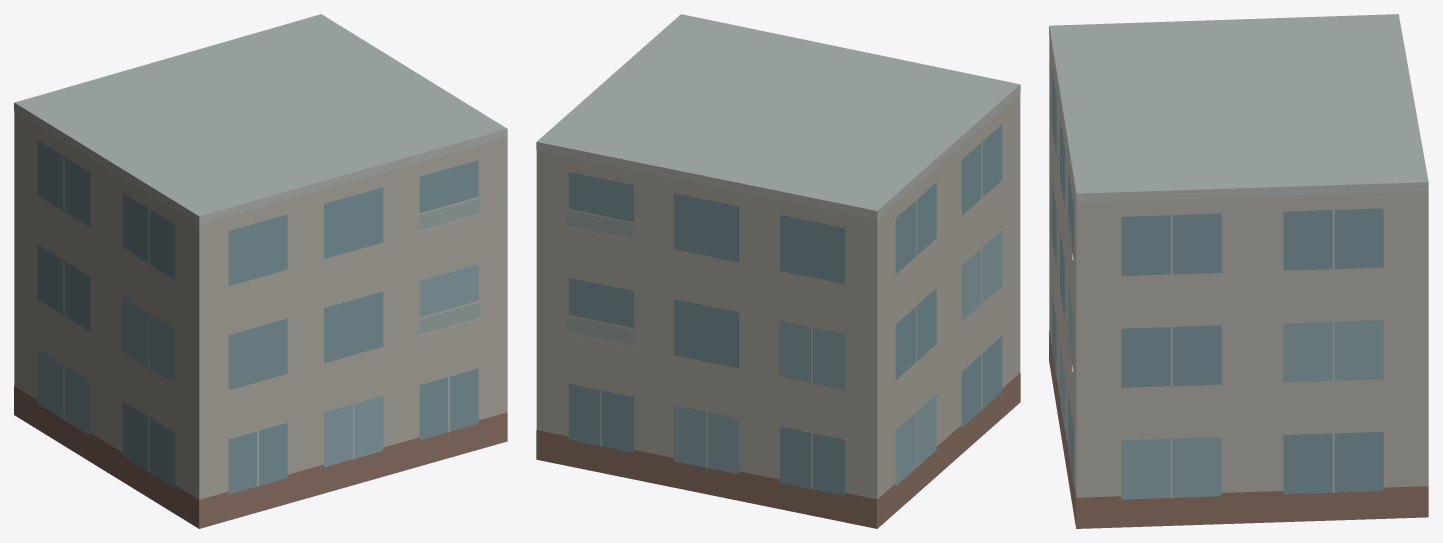
The model's file is survey-upis-32659570.glb.
3 views of the same model, side by side, from view 1: azimuth 30°, elevation 25°; view 2: azimuth 150°, elevation 25°; view 3: azimuth 270°, elevation 25° (orthographic). The views are drawn at different scales.
Visible parts, largest first — view 1: survey-upis-32659570.tmp; view 2: survey-upis-32659570.tmp; view 3: survey-upis-32659570.tmp.
Part boxes in pixels (x1,y1,x2,y2): survey-upis-32659570.tmp: [14, 14, 507, 528]; survey-upis-32659570.tmp: [536, 14, 1020, 528]; survey-upis-32659570.tmp: [1049, 14, 1428, 528].
Bounding box in the file's own units: 10.53 × 9.15 × 9.4.
